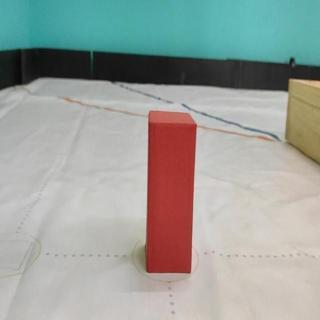redbox: (145, 109, 197, 274)
